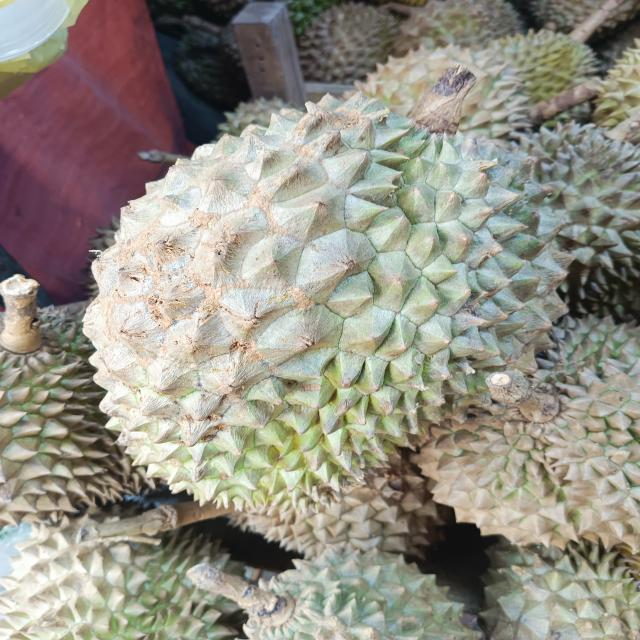mature: (82, 87, 593, 563), (412, 317, 640, 550), (0, 275, 139, 526), (0, 516, 241, 640), (187, 550, 471, 640), (437, 219, 473, 265)
